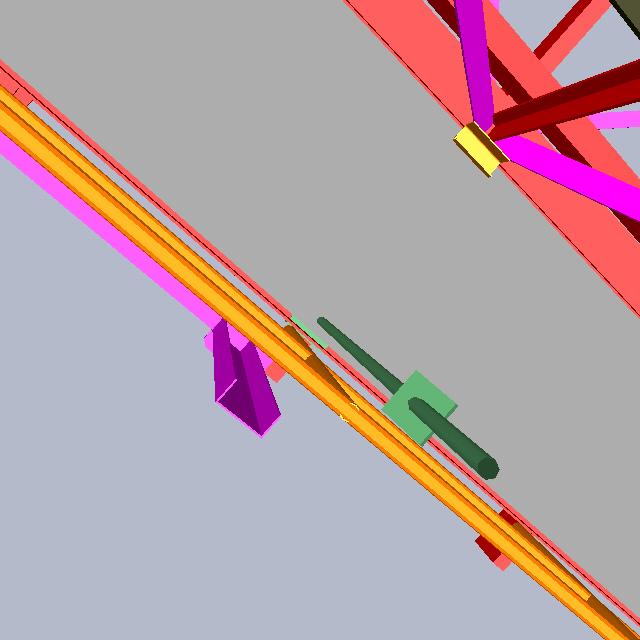Poste: (314, 300, 508, 492)
Soporte: (185, 312, 301, 435)
